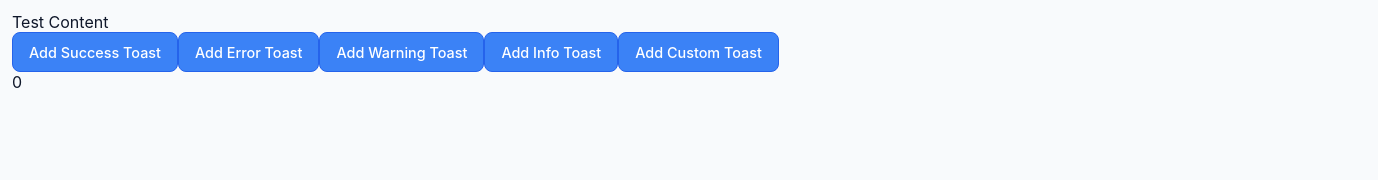
Test: ToastContext › should add error toast with longer duration
Click the button with test id "add-error-button" at (249, 52), box [178, 32, 320, 72]
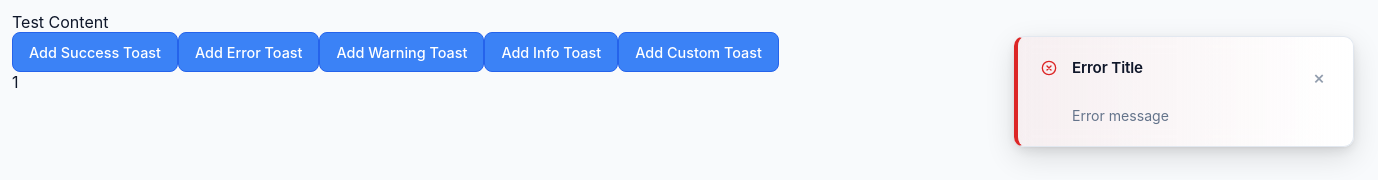
expect the element with class "toast-error" is shown: met, box [1014, 36, 1354, 147]
expect the element with class "toast-error" shows "Error Title": met, box [1072, 58, 1143, 77]
expect the element with class "toast-error" shows "Error message": met, box [1072, 107, 1169, 124]
